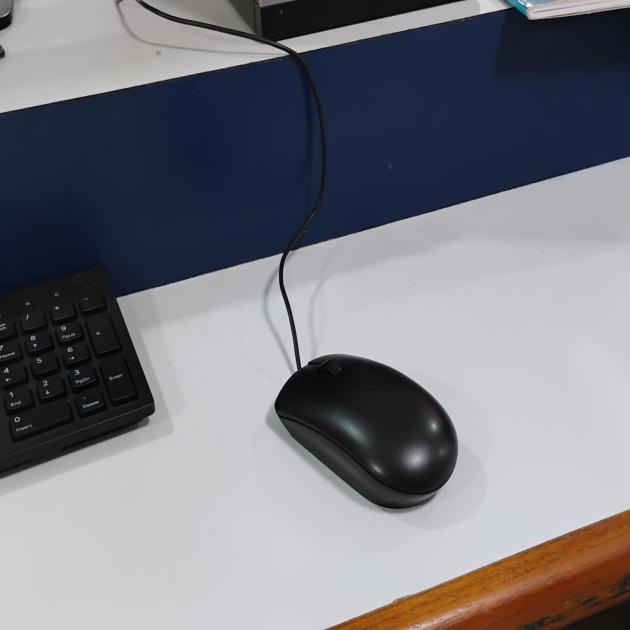keyboard: (0, 244, 172, 478)
mouse: (266, 311, 476, 545)
